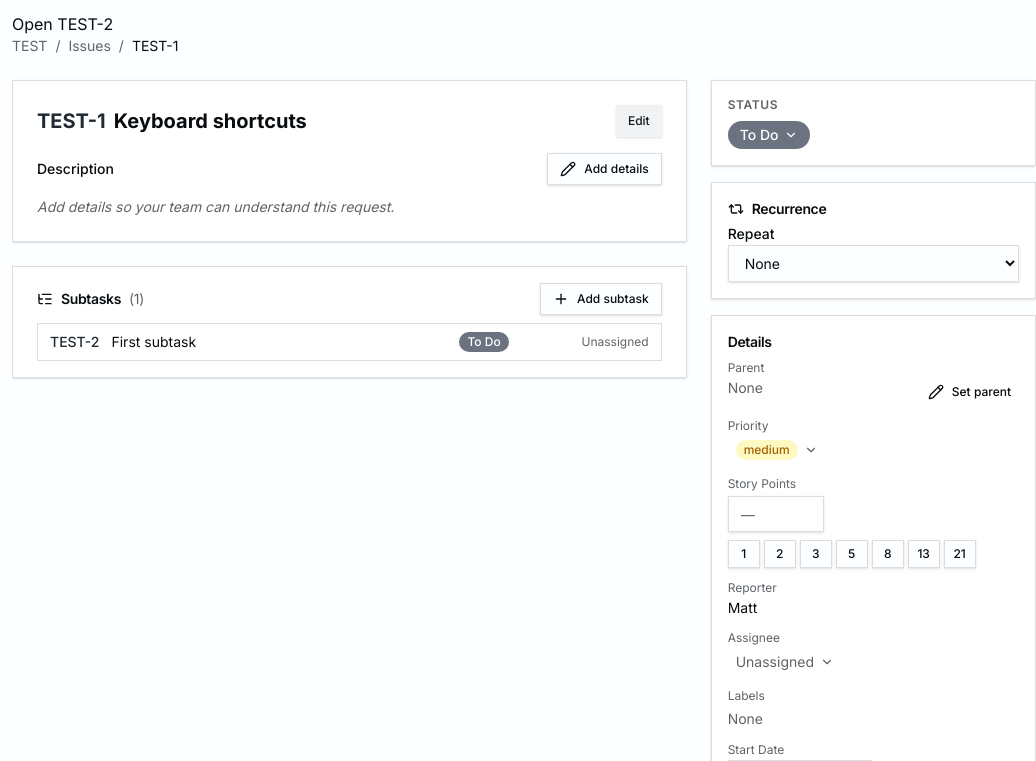
Test: IssueDetailPage live updates › drops the edit draft when another issue opens
Step 1. Press e
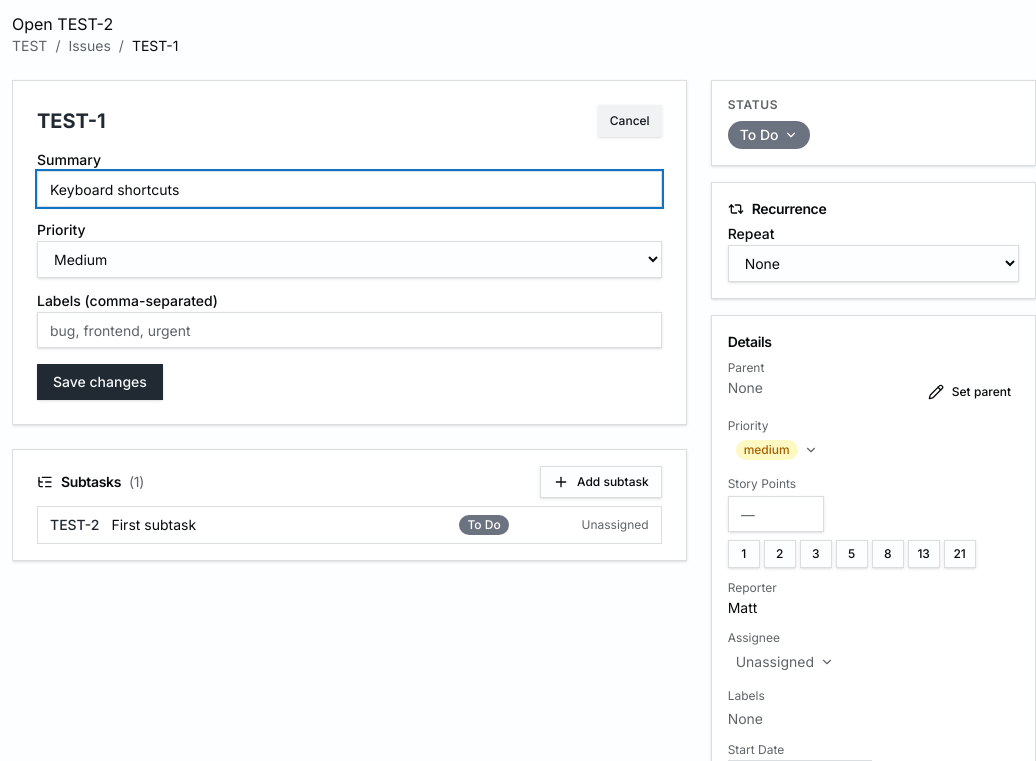
Step 2. Replace the text in the field labelled "Summary" with "Draft for TEST-1" → (349, 189), box [37,171,662,207]
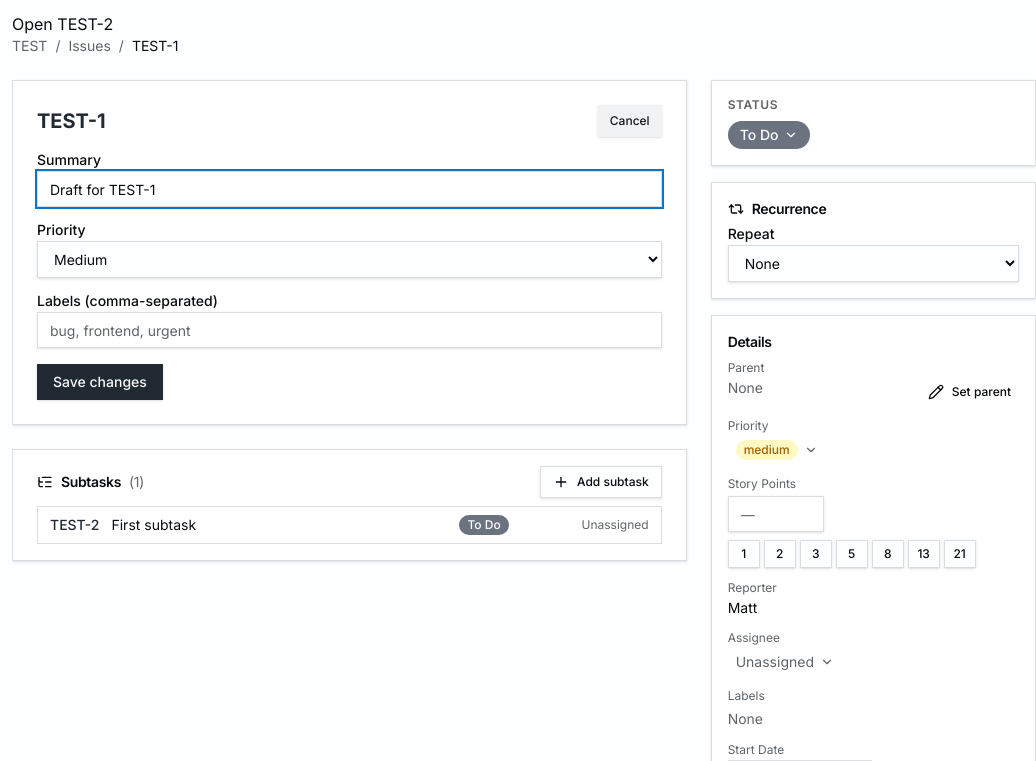
Step 3. Click the link "Open TEST-2" → (63, 24), box [12,14,113,34]
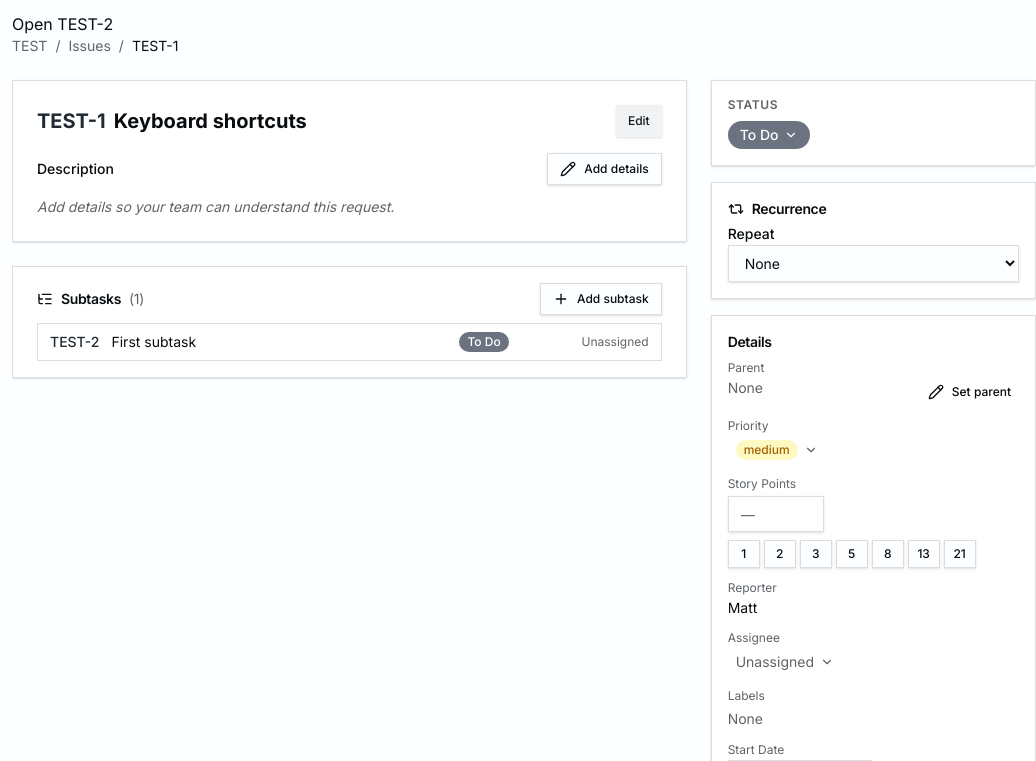
expect the label labelled "Summary" is gone: met
